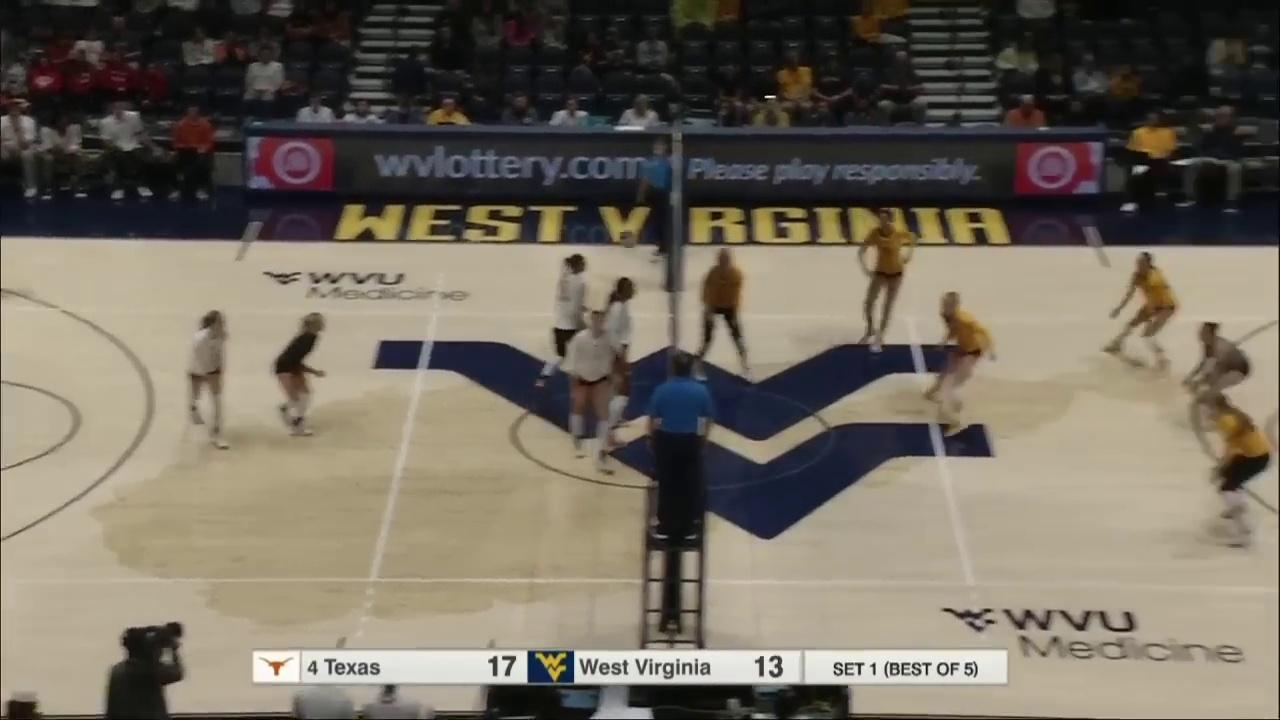player: (1202, 393, 1270, 549), (846, 207, 915, 354), (923, 292, 996, 427), (1104, 254, 1185, 369), (567, 309, 621, 477), (535, 253, 597, 397), (269, 309, 331, 438), (694, 246, 752, 383), (1186, 322, 1251, 430), (595, 272, 635, 445), (187, 306, 233, 453)
refree: (649, 349, 708, 542), (637, 136, 684, 265)
